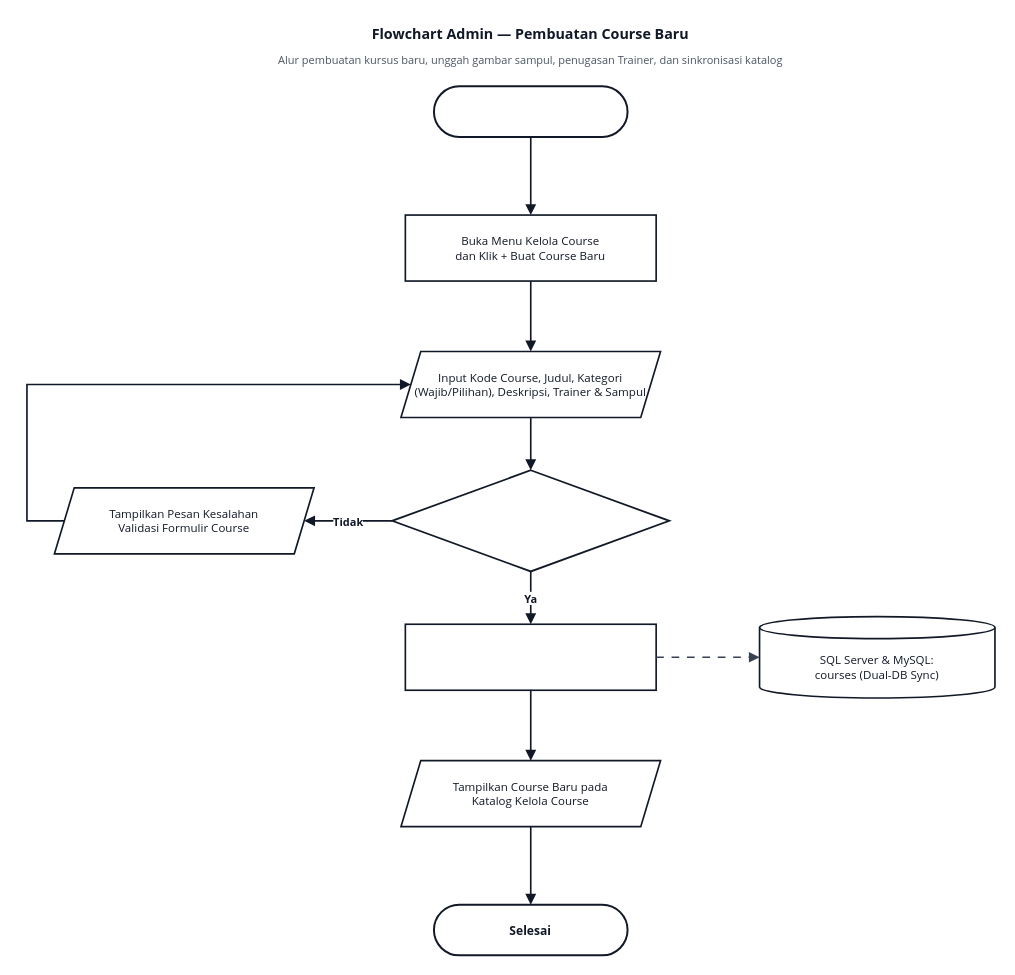
The diagram is 1015 pixels wide and 975 high, and some of its shapes have lost their labels. Here are the shapes that lost their labels. From the top down, the box of each, then its label:
(432, 85, 628, 137): Mulai
(391, 469, 670, 572): Kode Unik & Format Sampul (JPG/PNG/WebP) Valid?
(404, 623, 656, 691): Simpan Data Course, Berkas Sampul & Sinkronkan ke Katalog Siswa
